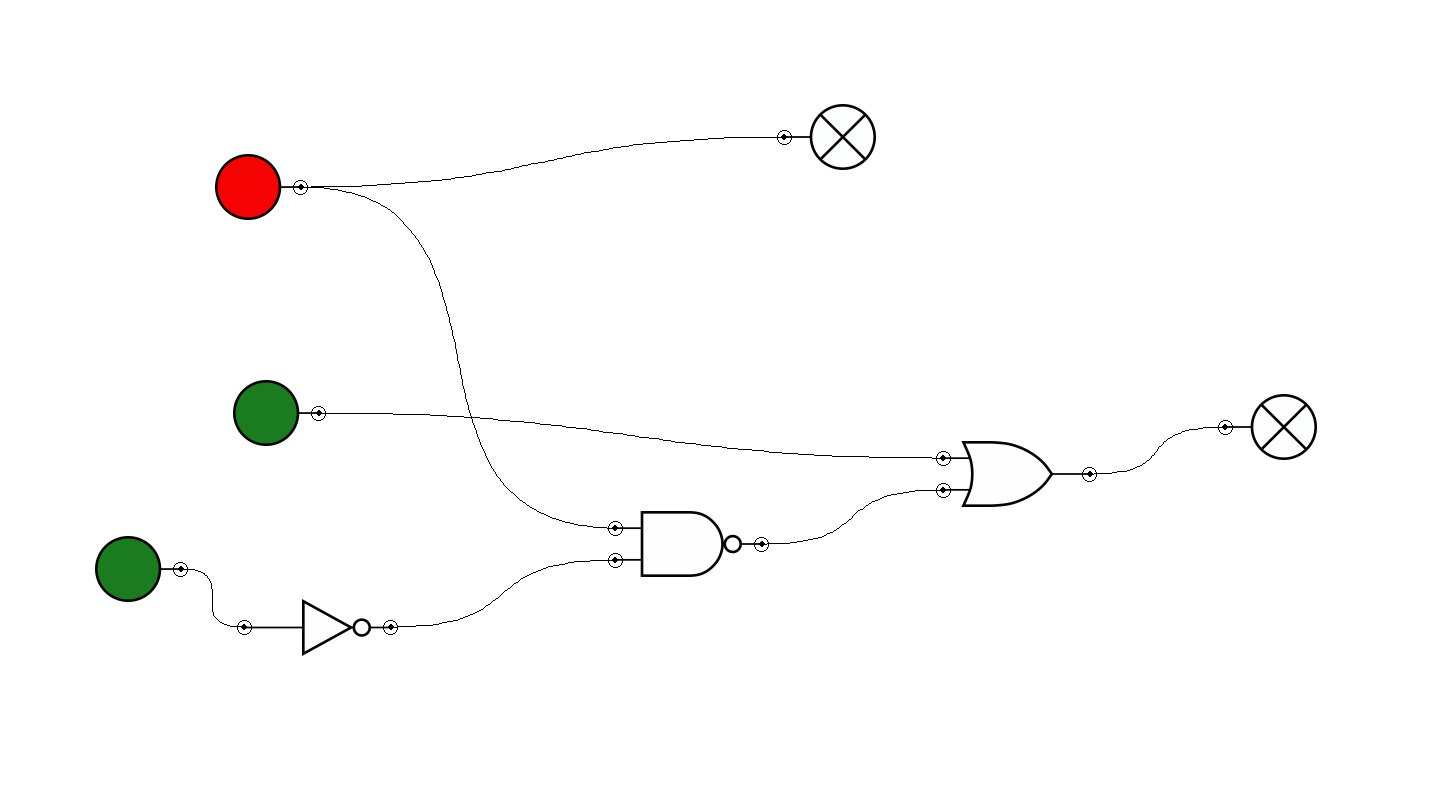bulb: (1218, 394, 1317, 460), (777, 104, 876, 170)
nand: (608, 511, 769, 577)
not: (237, 599, 398, 656)
or: (936, 441, 1097, 507)
switch_False: (215, 154, 308, 220)
switch_True: (233, 380, 326, 446), (95, 536, 188, 602)
